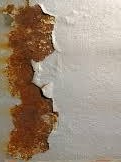Corrosion: (1, 1, 60, 162)
